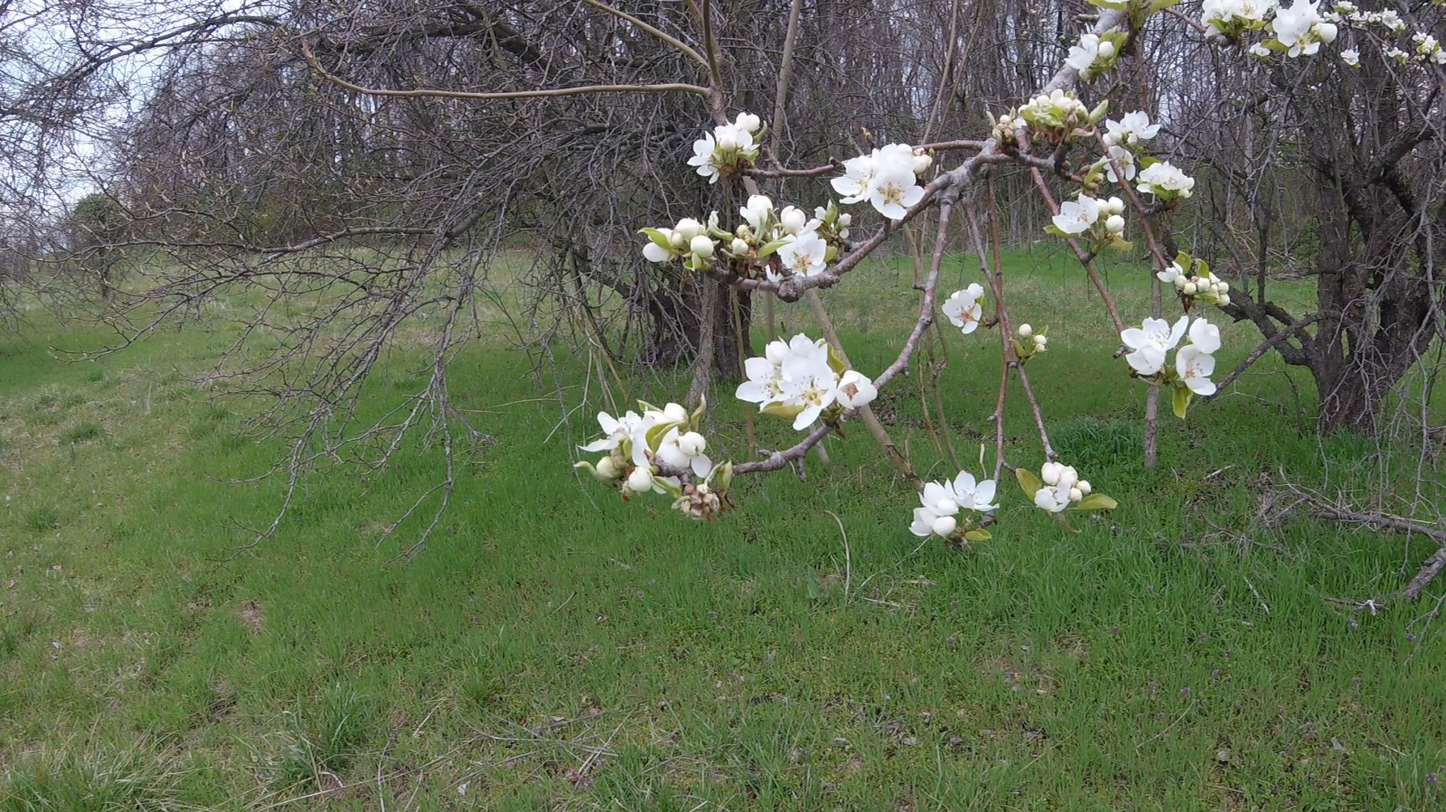flower: (737, 334, 878, 431), (578, 400, 688, 490), (1200, 0, 1348, 58), (831, 143, 933, 223), (909, 471, 1000, 537), (775, 200, 838, 277), (1100, 110, 1163, 182), (1122, 316, 1189, 376), (1157, 262, 1238, 307), (1176, 318, 1221, 396), (1052, 192, 1126, 238), (656, 218, 720, 271), (655, 426, 712, 479), (1035, 462, 1092, 513), (1064, 23, 1115, 79), (1136, 162, 1195, 204), (1013, 89, 1089, 117), (943, 284, 985, 334), (713, 112, 760, 151), (688, 131, 720, 184), (740, 195, 774, 238), (1413, 32, 1446, 64), (1368, 8, 1408, 32), (836, 213, 865, 238), (643, 243, 669, 262), (1340, 50, 1360, 66), (1033, 334, 1048, 352), (1019, 324, 1032, 336), (1265, 14, 1272, 19), (577, 448, 579, 454)
